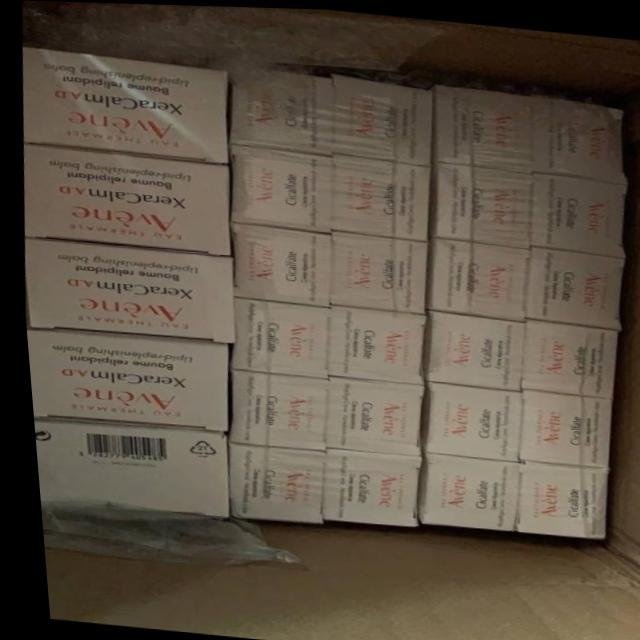box: (21, 46, 225, 161), (20, 144, 226, 254), (20, 238, 230, 342), (21, 328, 222, 430), (27, 421, 219, 515), (226, 63, 332, 154), (428, 82, 536, 170), (226, 141, 330, 231), (331, 73, 432, 164), (424, 160, 531, 245), (421, 234, 526, 318), (330, 152, 429, 239), (226, 221, 327, 305), (520, 243, 623, 325), (527, 171, 628, 254), (413, 379, 516, 459), (531, 93, 624, 181), (325, 229, 424, 311), (409, 450, 513, 528), (420, 307, 520, 388), (223, 297, 323, 376), (222, 369, 321, 448), (513, 317, 613, 395), (220, 442, 317, 522), (319, 374, 417, 453), (315, 446, 414, 524), (322, 303, 419, 382), (513, 386, 606, 465), (506, 459, 600, 535)
